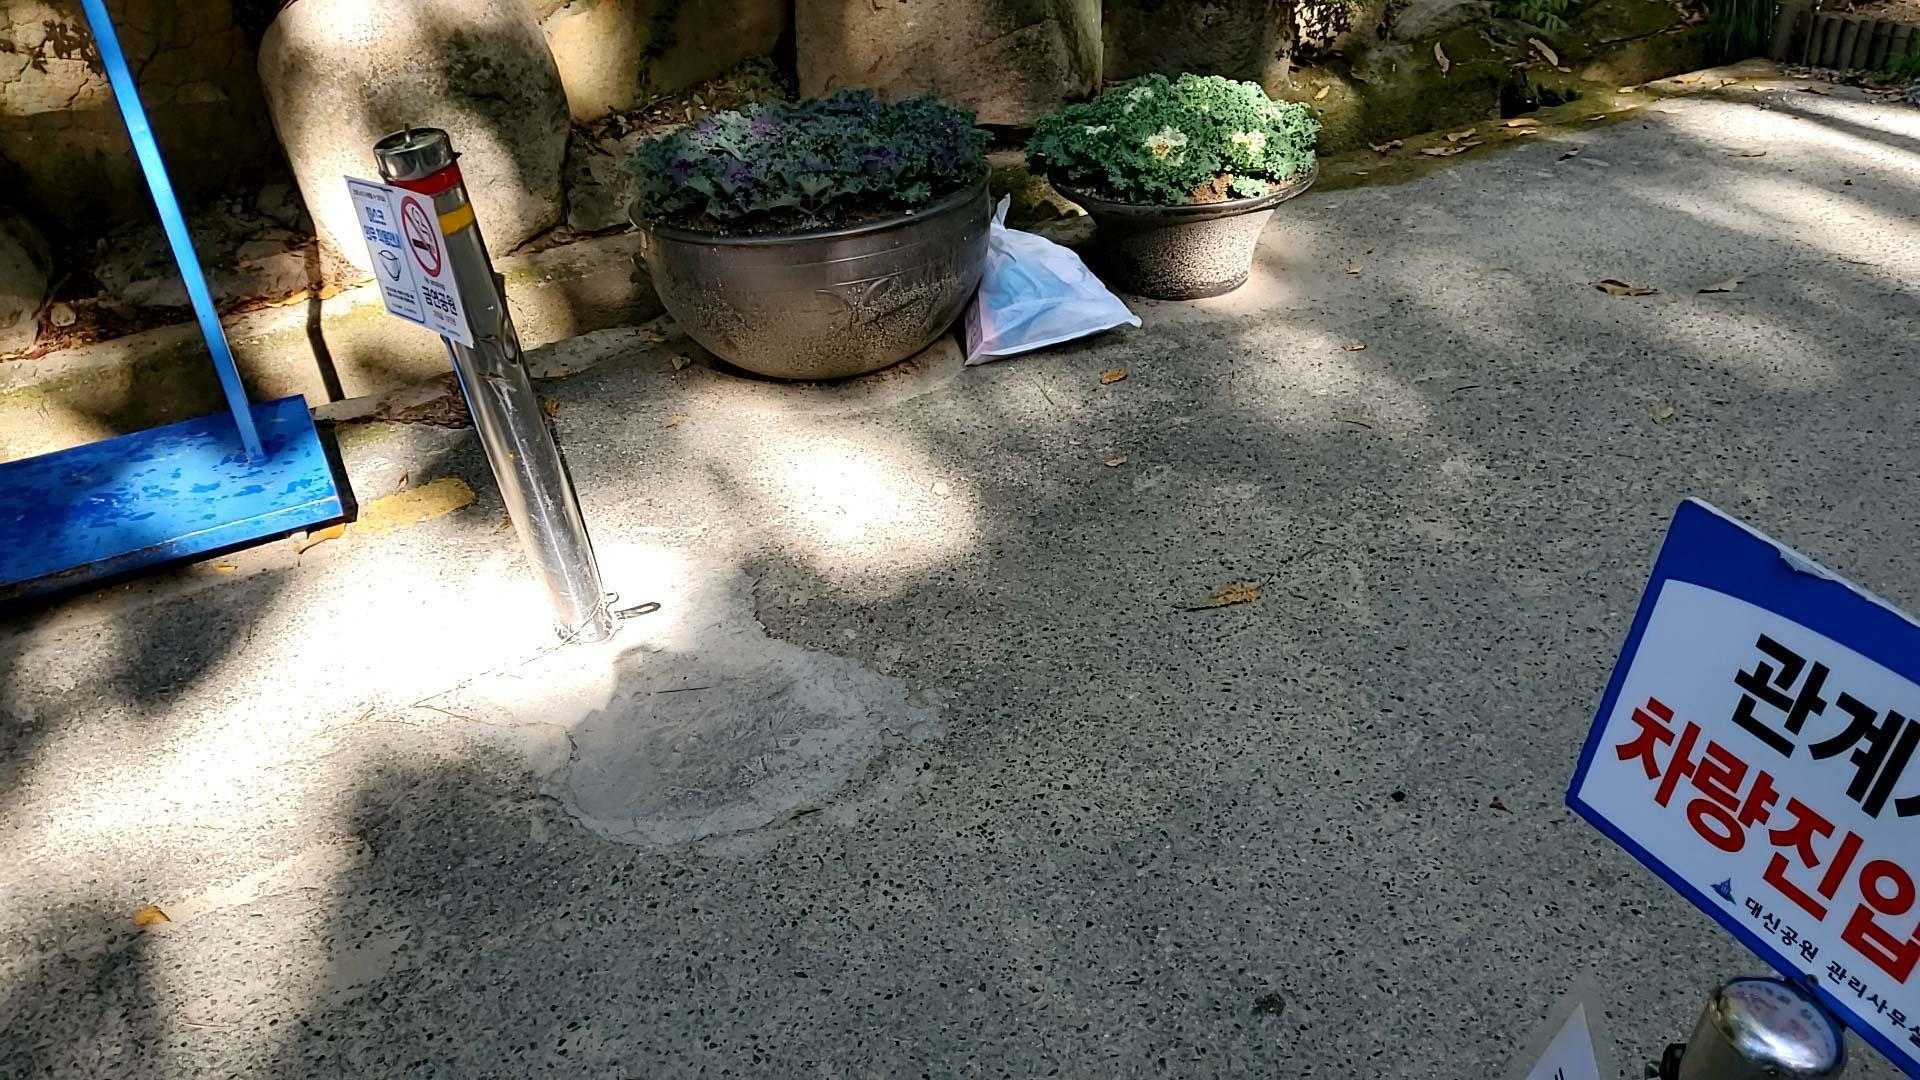white_bag: (949, 194, 1149, 373)
